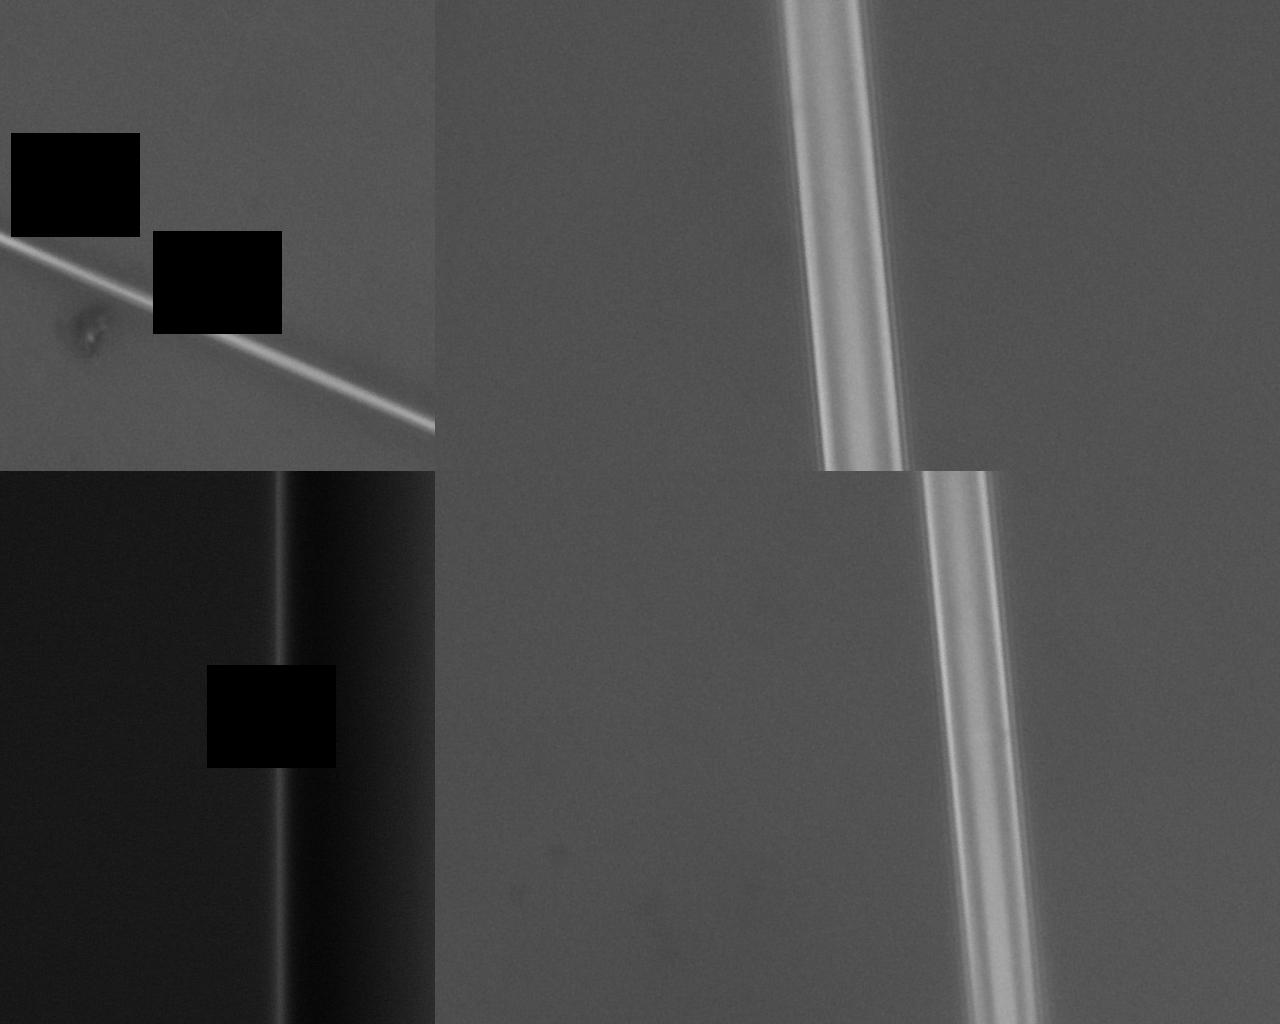fiber: (363, 0, 504, 583), (844, 0, 970, 583), (844, 927, 1280, 948), (228, 583, 246, 1024)
